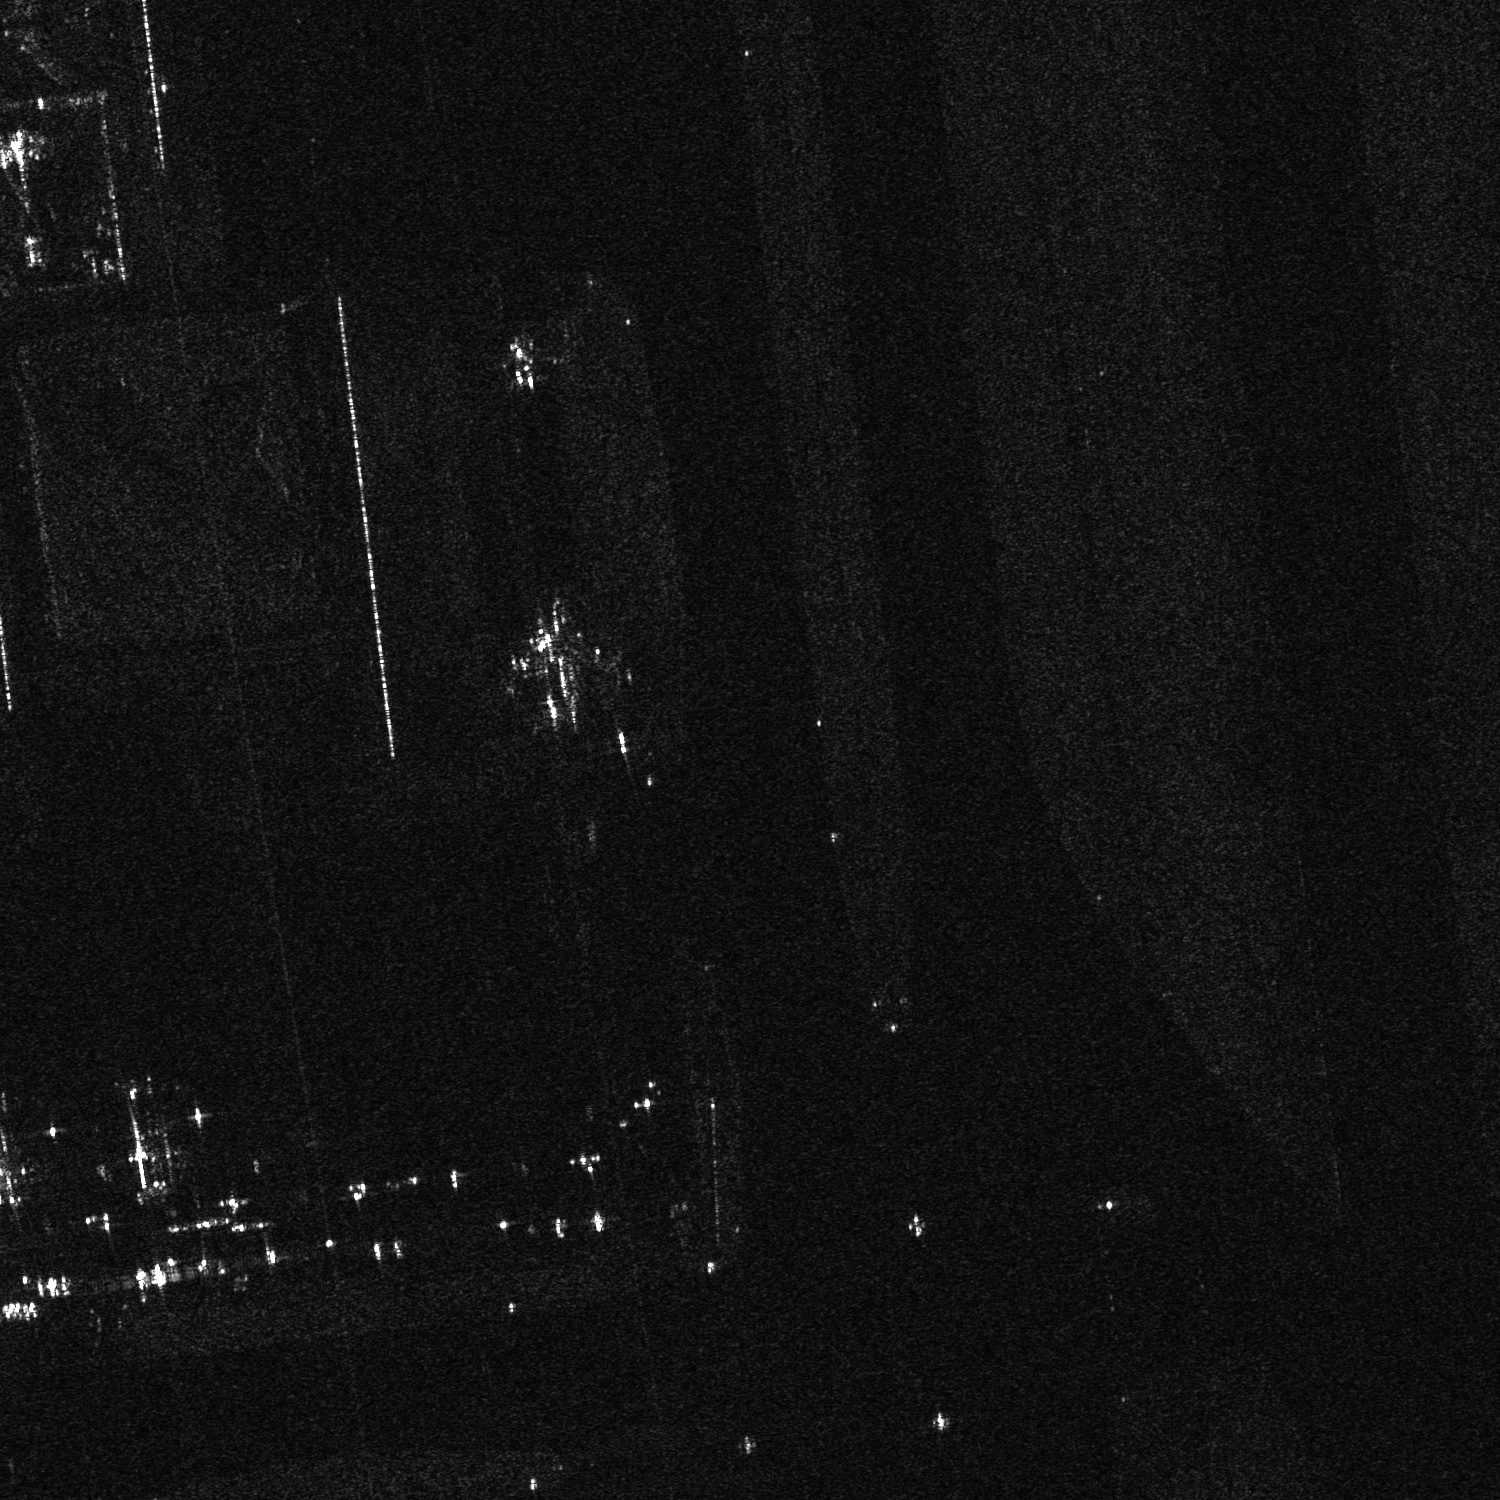A220: (479, 326, 558, 398)
other: (484, 604, 632, 738)
